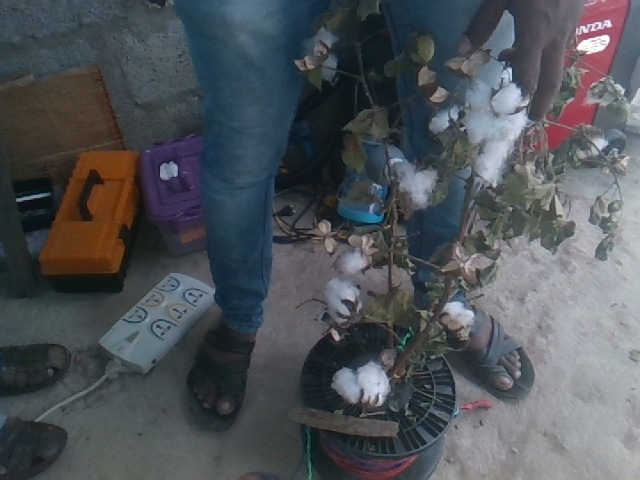cotton: (467, 115, 522, 172), (329, 360, 388, 408), (464, 58, 516, 111), (398, 159, 430, 207), (330, 245, 370, 279), (491, 81, 528, 113)
